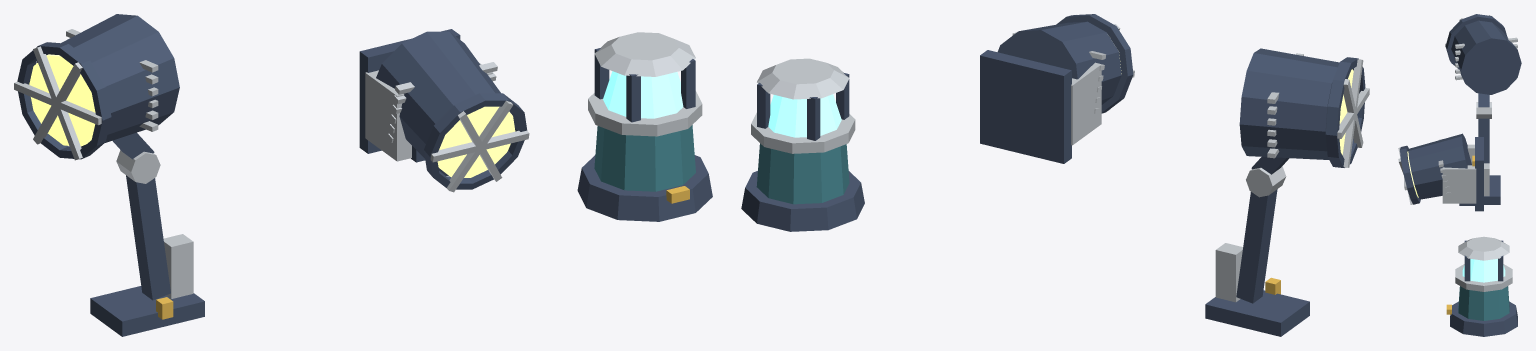
3 views of the same model, side by side, from view 1: azimuth 30°, elevation 25°; view 2: azimuth 150°, elevation 25°; view 3: azimuth 270°, elevation 25° (orthographic). The views are drawn at different scales.
Parts seen in each view (by area): view 1: DL020_LightingKit_graphite_navy, DL020_LightingKit_titanium, DL020_LightingKit_teal_shell, DL020_LightingKit_emissive_amber, DL020_LightingKit_emissive_cyan, DL020_LightingKit_amber_accent; view 2: DL020_LightingKit_graphite_navy, DL020_LightingKit_titanium, DL020_LightingKit_teal_shell, DL020_LightingKit_emissive_cyan; view 3: DL020_LightingKit_graphite_navy, DL020_LightingKit_titanium, DL020_LightingKit_teal_shell, DL020_LightingKit_emissive_cyan.
Part boxes in pixels (x1=…): DL020_LightingKit_graphite_navy: x1=17, y1=14, x2=712, y2=336; DL020_LightingKit_titanium: x1=14, y1=29, x2=702, y2=298; DL020_LightingKit_teal_shell: x1=594, y1=125, x2=695, y2=191; DL020_LightingKit_emissive_amber: x1=29, y1=54, x2=515, y2=177; DL020_LightingKit_emissive_cyan: x1=603, y1=71, x2=683, y2=118; DL020_LightingKit_amber_accent: x1=156, y1=186, x2=689, y2=319; DL020_LightingKit_graphite_navy: x1=741, y1=14, x2=1365, y2=336; DL020_LightingKit_titanium: x1=751, y1=14, x2=1369, y2=302; DL020_LightingKit_teal_shell: x1=756, y1=143, x2=849, y2=204; DL020_LightingKit_emissive_cyan: x1=768, y1=94, x2=841, y2=137; DL020_LightingKit_graphite_navy: x1=1400, y1=14, x2=1521, y2=336; DL020_LightingKit_titanium: x1=1398, y1=15, x2=1517, y2=291; DL020_LightingKit_teal_shell: x1=1458, y1=286, x2=1509, y2=320; DL020_LightingKit_emissive_cyan: x1=1462, y1=259, x2=1505, y2=282.
Bounding box in the file's own units: 3.63 × 1.54 × 1.1.
